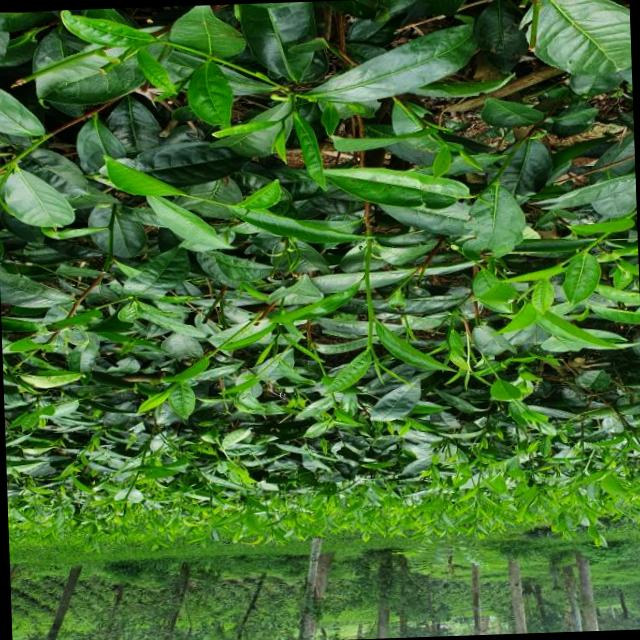Stem: (11, 151, 23, 162), (583, 239, 596, 249), (366, 333, 371, 344), (289, 98, 294, 109), (274, 322, 280, 330), (124, 488, 130, 496), (331, 397, 336, 406)
